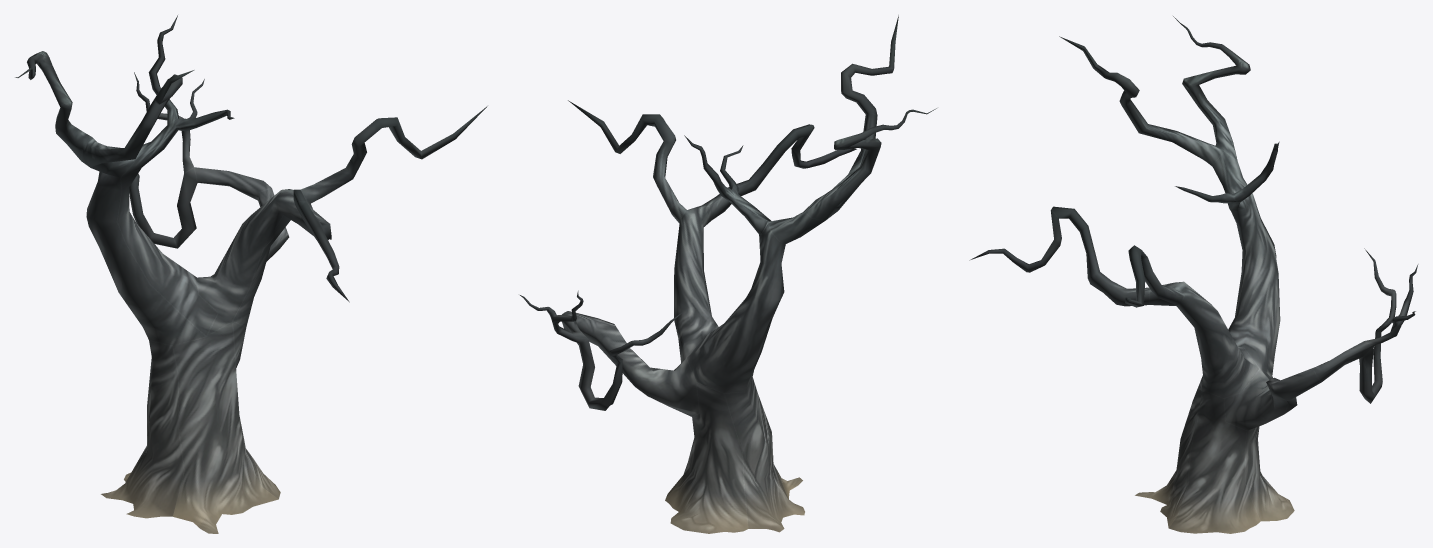
File: Tree_2.FBX
3 views of the same model, side by side, from view 1: azimuth 30°, elevation 25°; view 2: azimuth 150°, elevation 25°; view 3: azimuth 270°, elevation 25° (orthographic). The views are drawn at different scales.
Parts seen in each view (by area): view 1: Tree_2; view 2: Tree_2; view 3: Tree_2.
Boxes of the visible parts, x1,y1,x2,y2 form: Tree_2: (15, 15, 487, 533); Tree_2: (520, 15, 936, 533); Tree_2: (969, 16, 1418, 533).
Size of the model in its own units: 1440 by 1569 by 1484.
